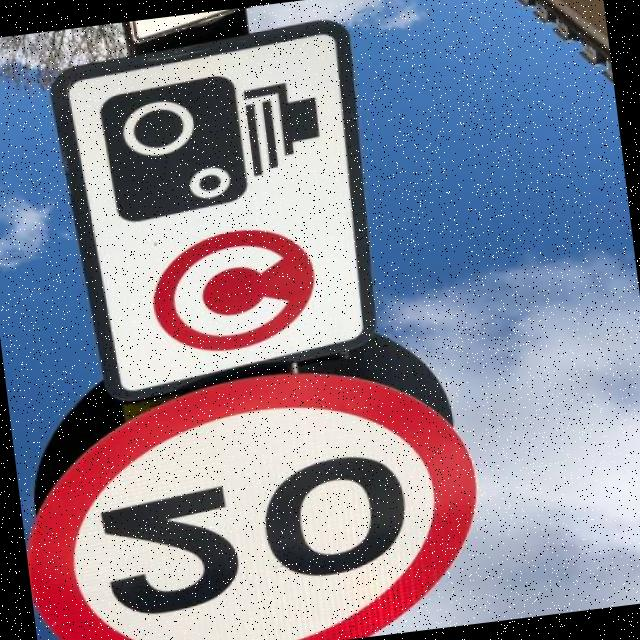speed_limit_20: (8, 351, 503, 640)
